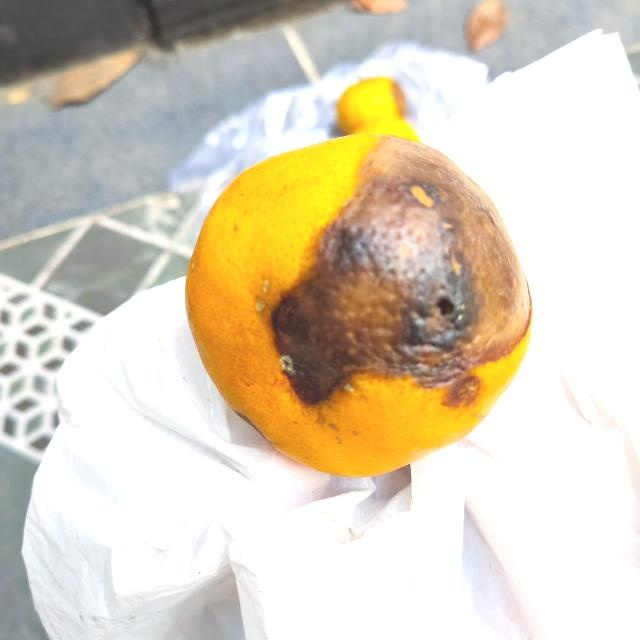agrume: (183, 133, 532, 479)
